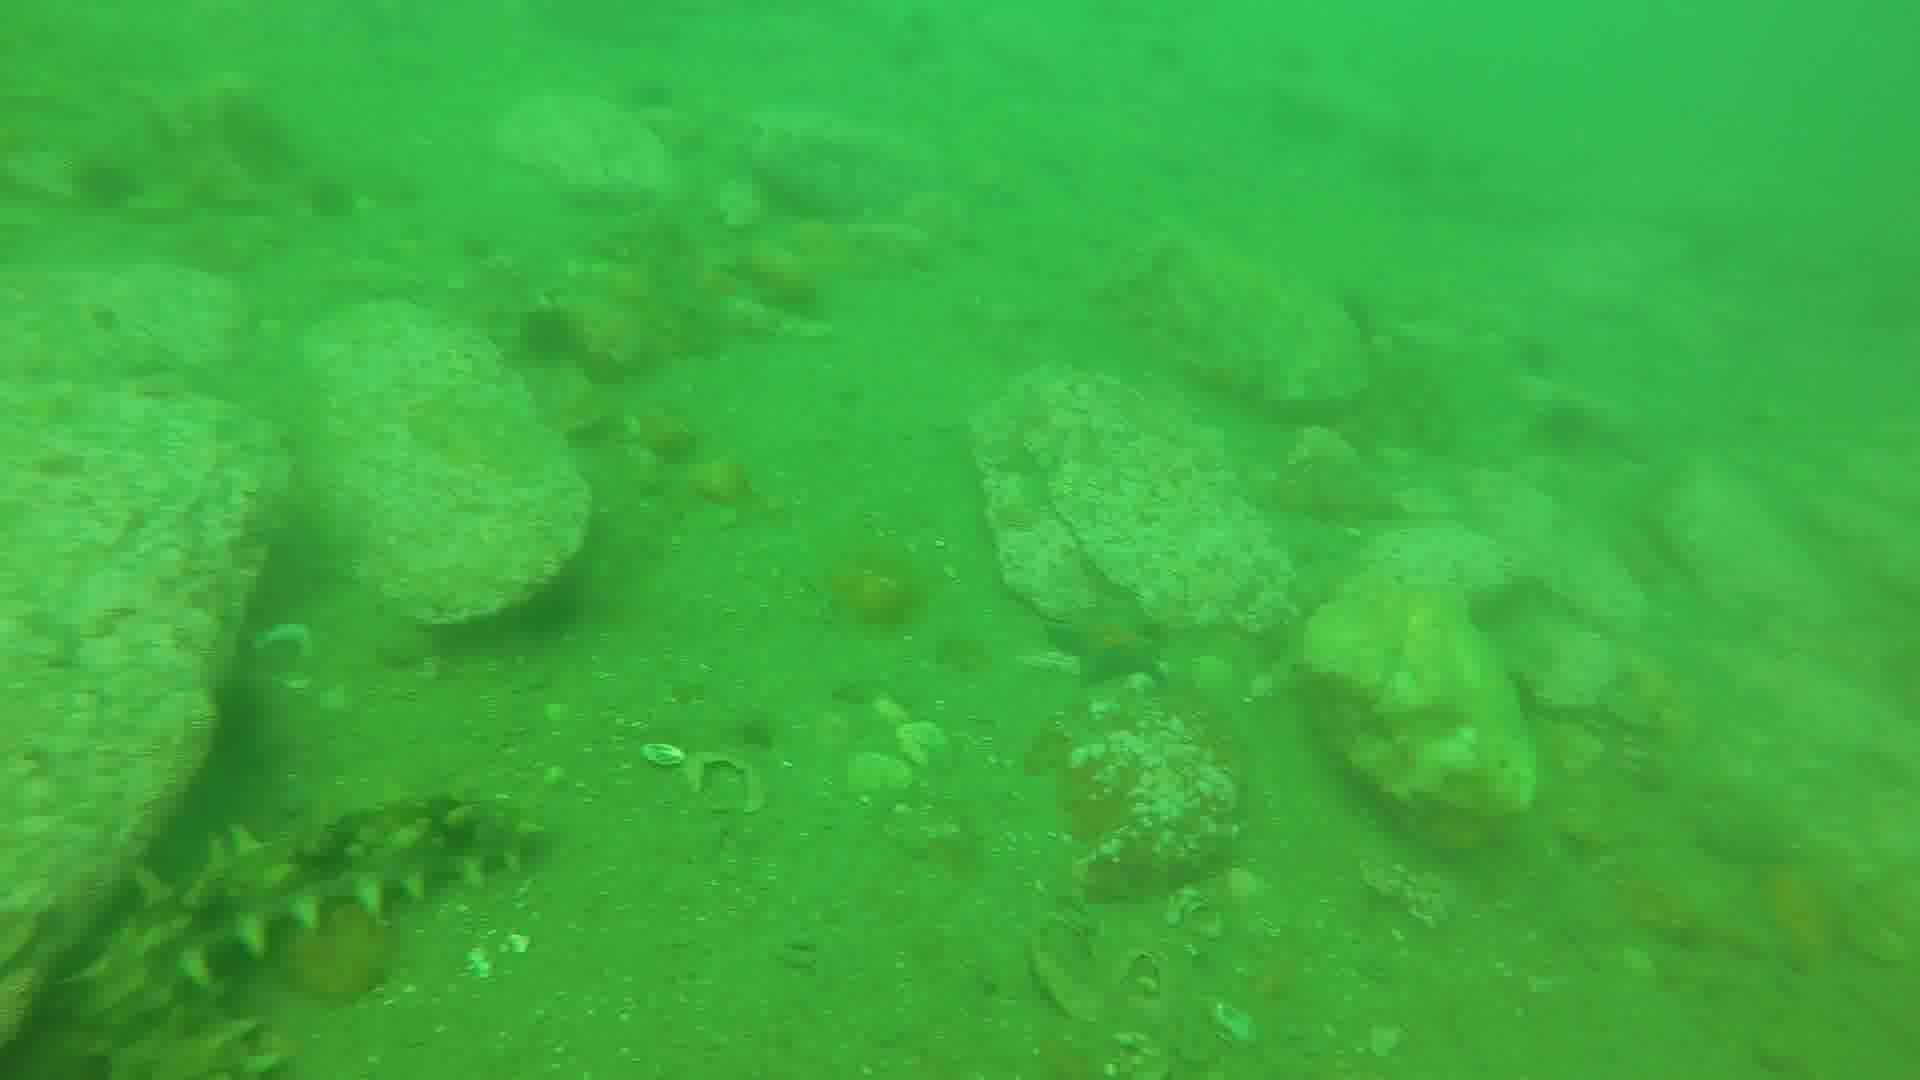echinus: (522, 305, 579, 371)
holothurian: (70, 789, 546, 1033), (79, 972, 307, 1077)
scallop: (895, 717, 967, 775), (837, 745, 907, 803)
starfish: (1046, 597, 1172, 684)
